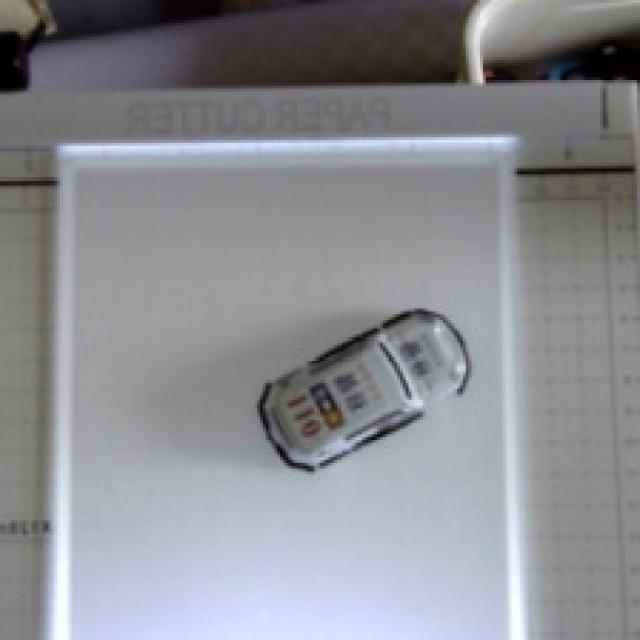Grey Car: (229, 274, 506, 488)
